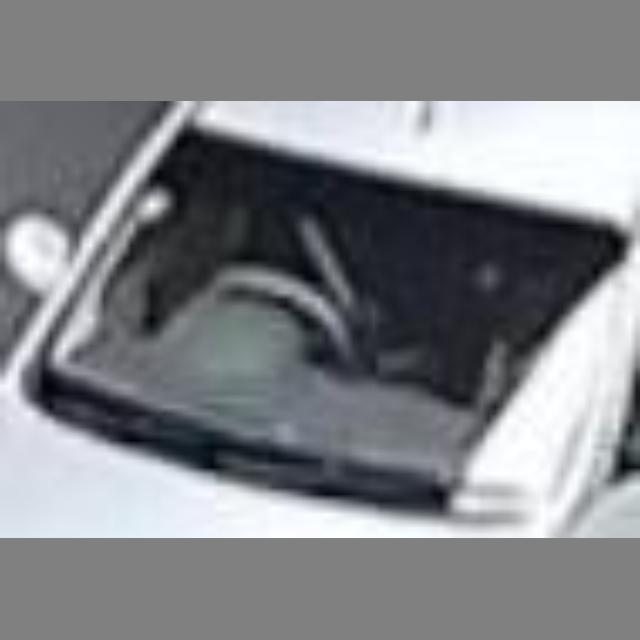pakai: (195, 189, 411, 411)
